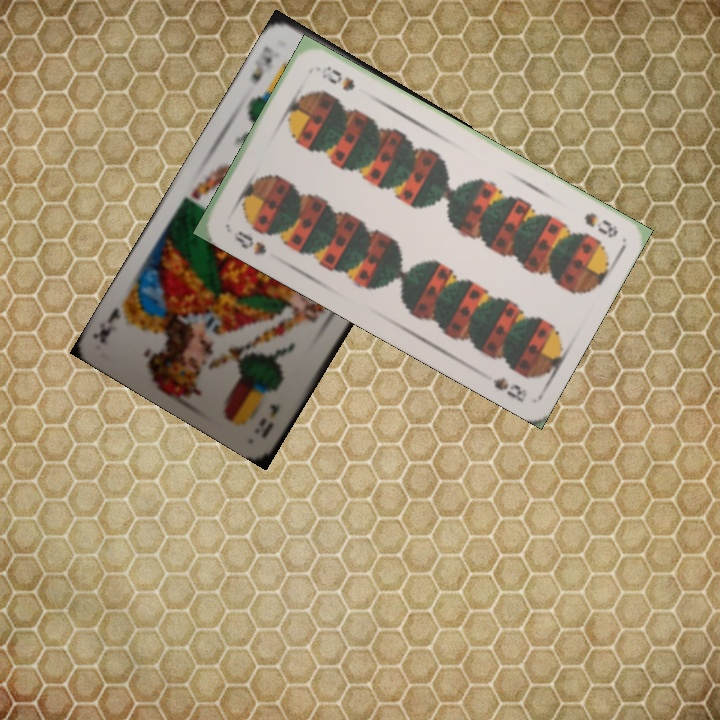EK: (247, 41, 275, 88), (257, 400, 282, 440)
S8: (580, 208, 621, 241), (229, 227, 269, 258)
